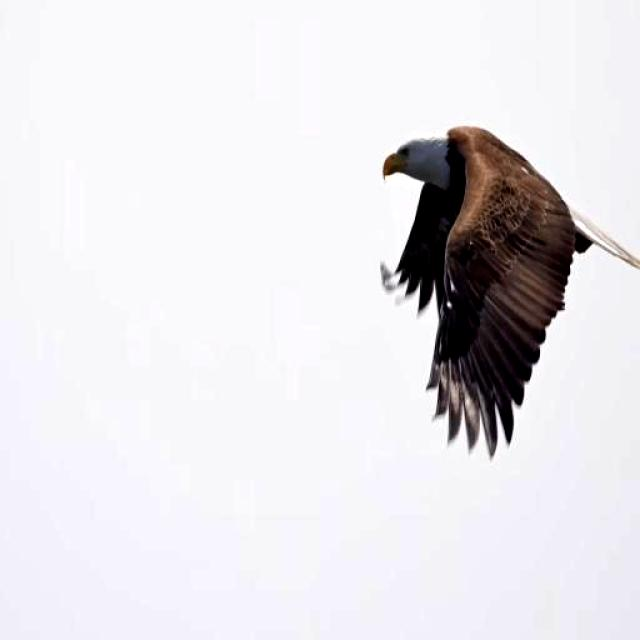airplane: (368, 116, 640, 469)
